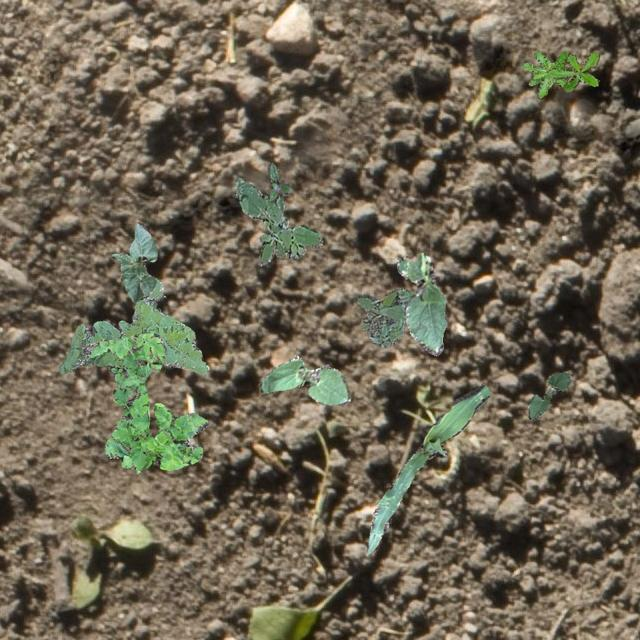crop: (366, 383, 488, 552), (396, 252, 448, 354), (258, 356, 350, 404), (110, 222, 156, 302), (526, 369, 568, 418)
weed: (80, 332, 208, 472), (58, 278, 208, 394), (234, 176, 322, 264), (356, 288, 414, 346), (522, 51, 568, 98), (544, 52, 598, 90), (268, 162, 290, 210)
